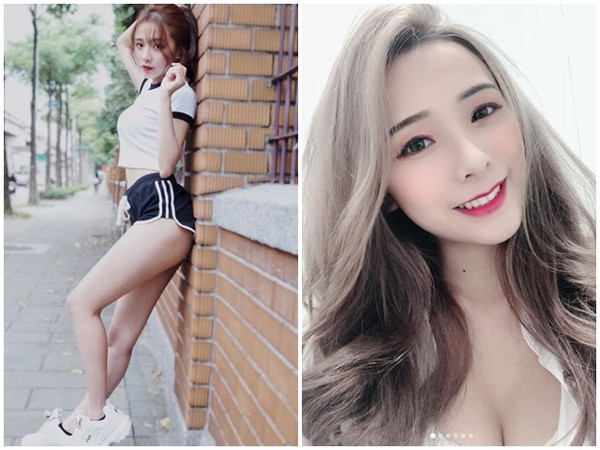people: (305, 2, 595, 444), (58, 1, 195, 444)
